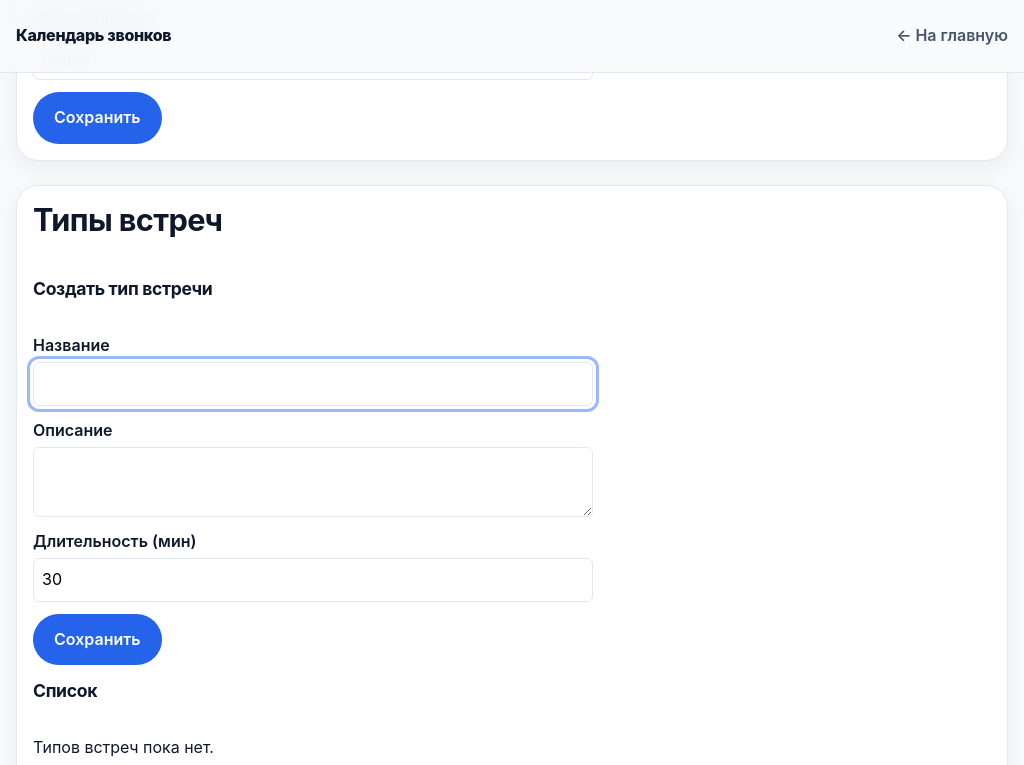
Test case: AdminPage › creates meeting type and shows field errors on validation
The width and height of the screenshot is (1024, 765).
(page scrolled)
Type "x" into the field labelled "Название". click: point(313, 384)
box: [33, 362, 593, 406]
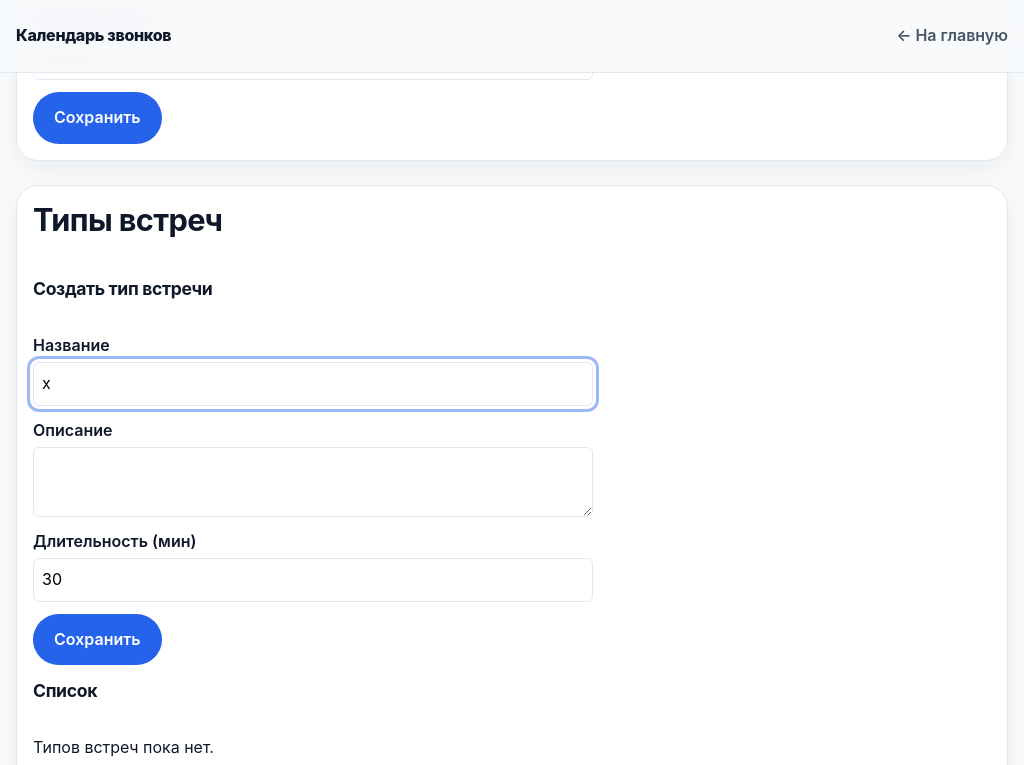
Click the button "Сохранить" below "Длительность (мин)". click: point(97, 640)
box: [33, 614, 162, 665]
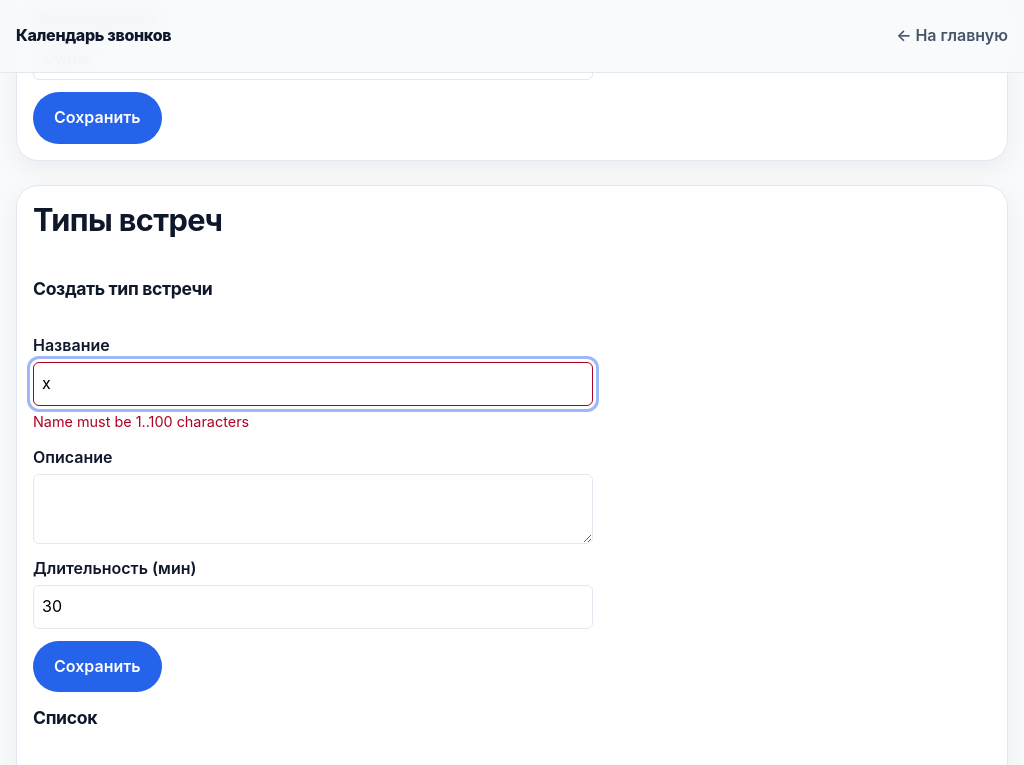
Expected: the text "Name must be 1..100 characters" is shown, [33, 413, 249, 430]
